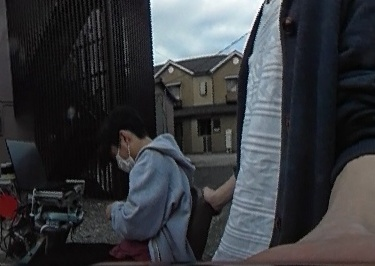person: (86, 106, 193, 266)
